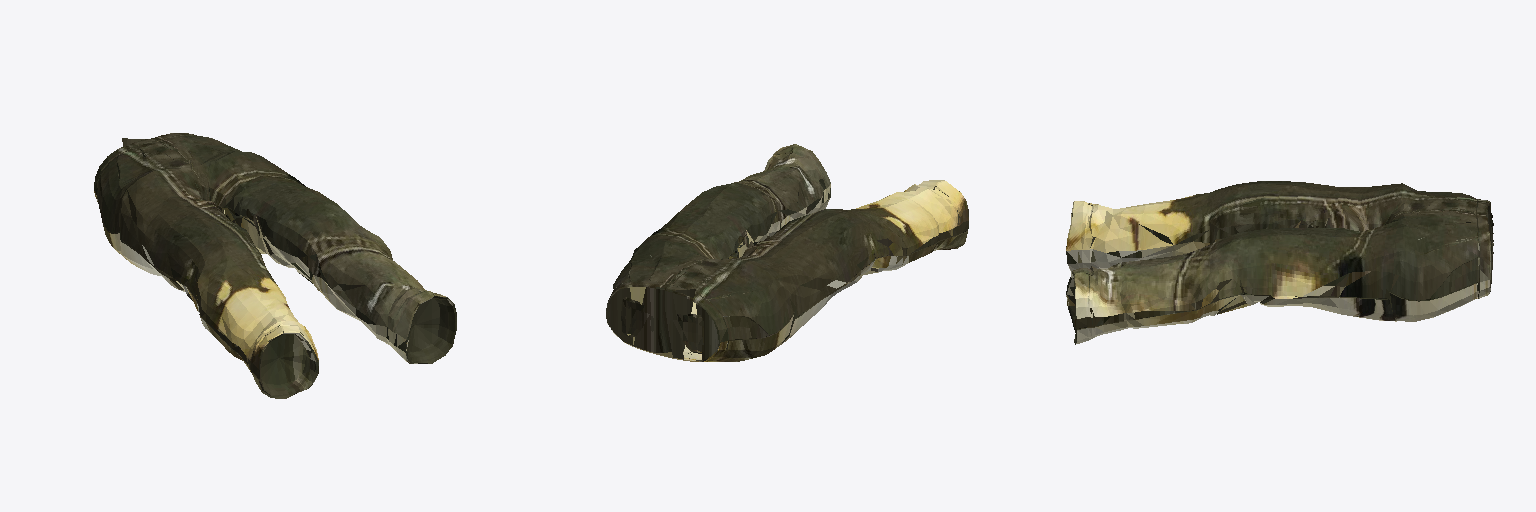
The picture shows the model from 3 angles: view 1: azimuth 30°, elevation 25°; view 2: azimuth 150°, elevation 25°; view 3: azimuth 270°, elevation 25°; orthographic projection.
Visible parts, largest first — view 1: Object60.004; view 2: Object60.004; view 3: Object60.004.
Part boxes in pixels (left/top/right/bottom): Object60.004: left=94, top=133, right=456, bottom=398; Object60.004: left=606, top=144, right=968, bottom=361; Object60.004: left=1066, top=181, right=1493, bottom=344.
Size of the model in its own units: 3.76 by 1.81 by 7.04.
Materials: 2 (1 with a texture image).